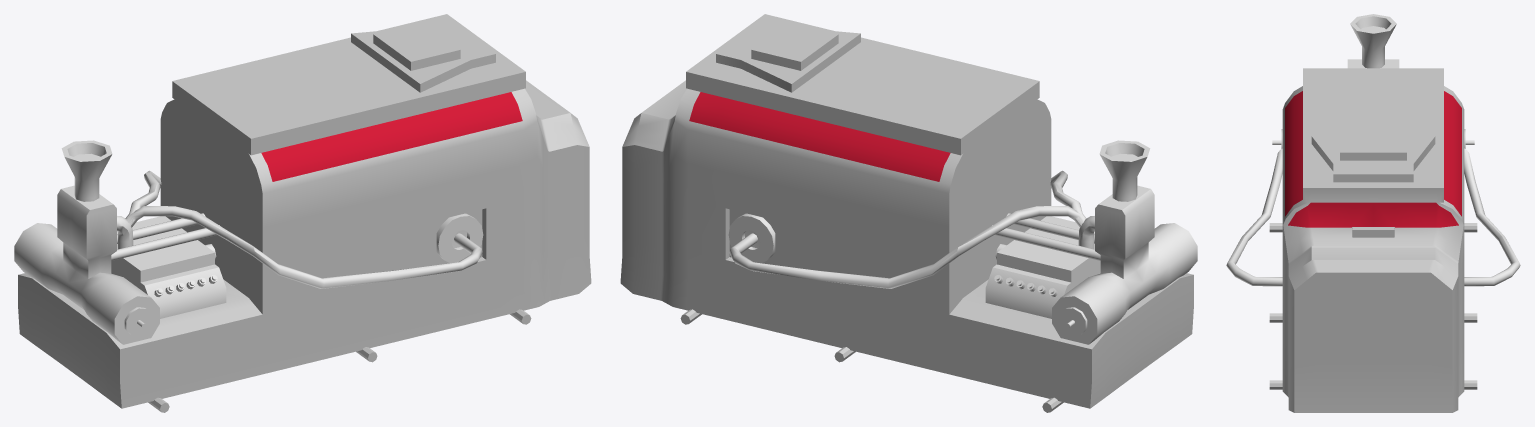
File: Digger Base.fbx
The picture shows the model from 3 angles, left to right: view 1: azimuth 30°, elevation 25°; view 2: azimuth 150°, elevation 25°; view 3: azimuth 270°, elevation 25°; orthographic projection. The views are drawn at different scales.
Visible parts, largest first — view 1: Digger, Engine; view 2: Digger, Engine; view 3: Digger, Engine.
Part boxes in pixels (<box>): Digger: <box>18,14,591,412</box>; Engine: <box>14,140,483,344</box>; Digger: <box>620,14,1193,412</box>; Engine: <box>728,140,1197,344</box>; Digger: <box>1269,68,1477,412</box>; Engine: <box>1226,14,1520,286</box>.
Bounding box in the file's own units: 3.3 × 1.65 × 1.95.
